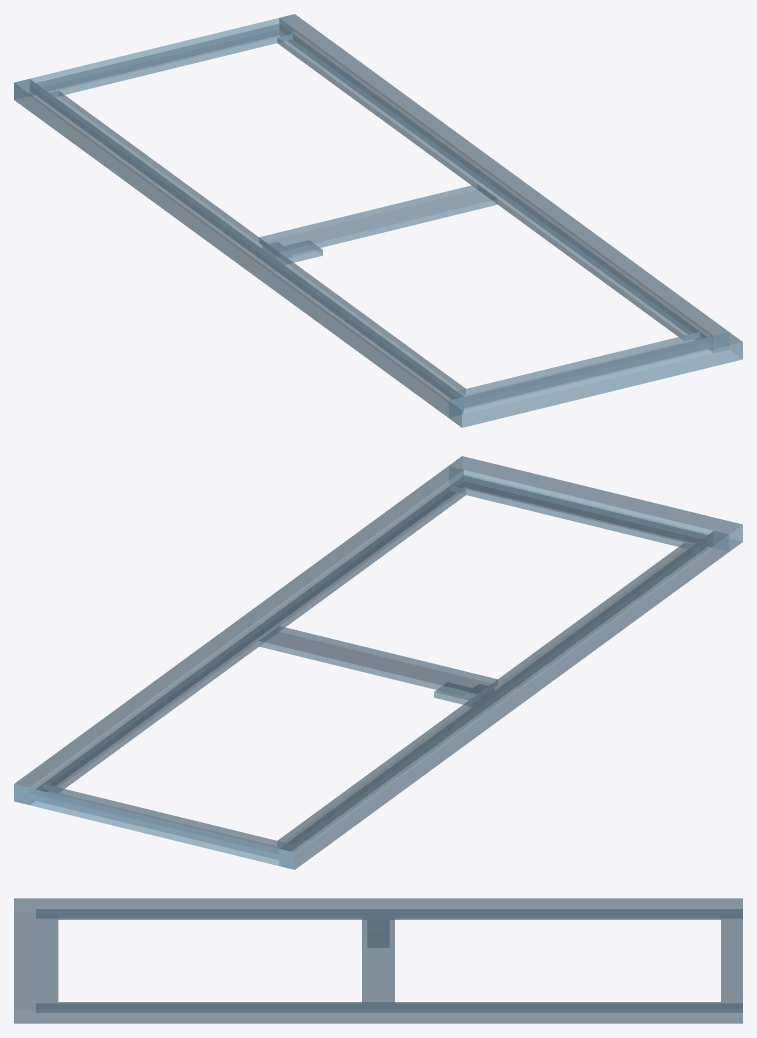
File: GlassDoor_Panel_76cm.obj
The picture shows the model from 3 angles, top to bottom: view 1: azimuth 30°, elevation 25°; view 2: azimuth 150°, elevation 25°; view 3: azimuth 270°, elevation 25°; orthographic projection. The views are drawn at different scales.
Bounding box in the file's own units: 0.76 × 0.06 × 2.1.
